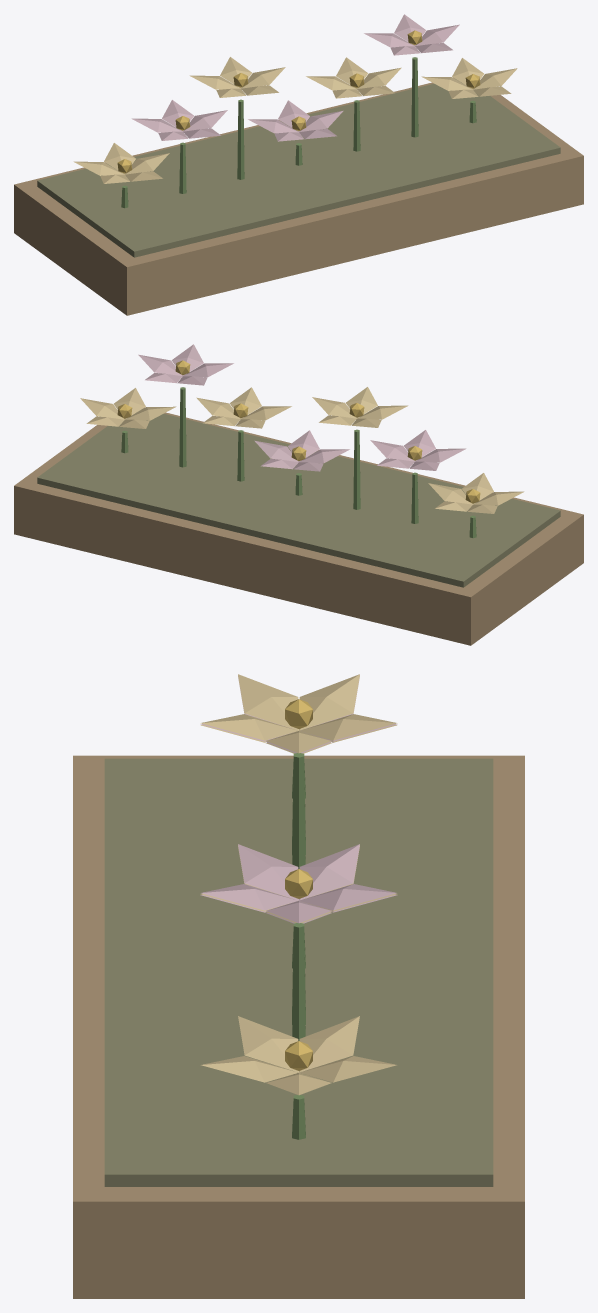
The model's file is map-exclusive-v3__village_15.glb.
3 renders of one model, top to bottom at view 1: azimuth 30°, elevation 25°; view 2: azimuth 150°, elevation 25°; view 3: azimuth 270°, elevation 25°, orthographic. The views are drawn at different scales.
Visible parts, largest first — view 1: village_15; view 2: village_15; view 3: village_15.
Part boxes in pixels (x1,y1,x2,y2): village_15: (14, 14, 583, 315); village_15: (14, 344, 583, 645); village_15: (73, 674, 524, 1298).
Size of the model in its own units: 3.15 by 1.05 by 1.35.
